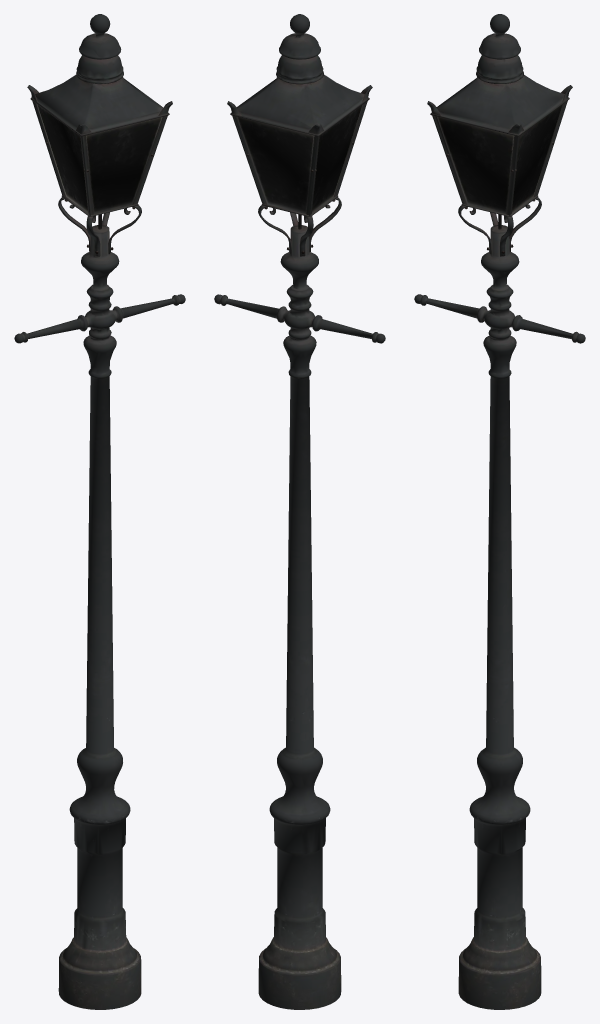
File: street_lamp_01.glb
3 views of the same model, side by side, from view 1: azimuth 30°, elevation 25°; view 2: azimuth 150°, elevation 25°; view 3: azimuth 330°, elevation 25° (orthographic).
Parts seen in each view (by area): view 1: street_lamp_01; view 2: street_lamp_01; view 3: street_lamp_01.
Part boxes in pixels (x1,y1,x2,y2): street_lamp_01: (14,14,185,1009); street_lamp_01: (214,14,385,1009); street_lamp_01: (414,14,585,1009).
Bounding box in the file's own units: 0.7035 × 3.87 × 0.3865.
Materials: 2 (2 with a texture image).
